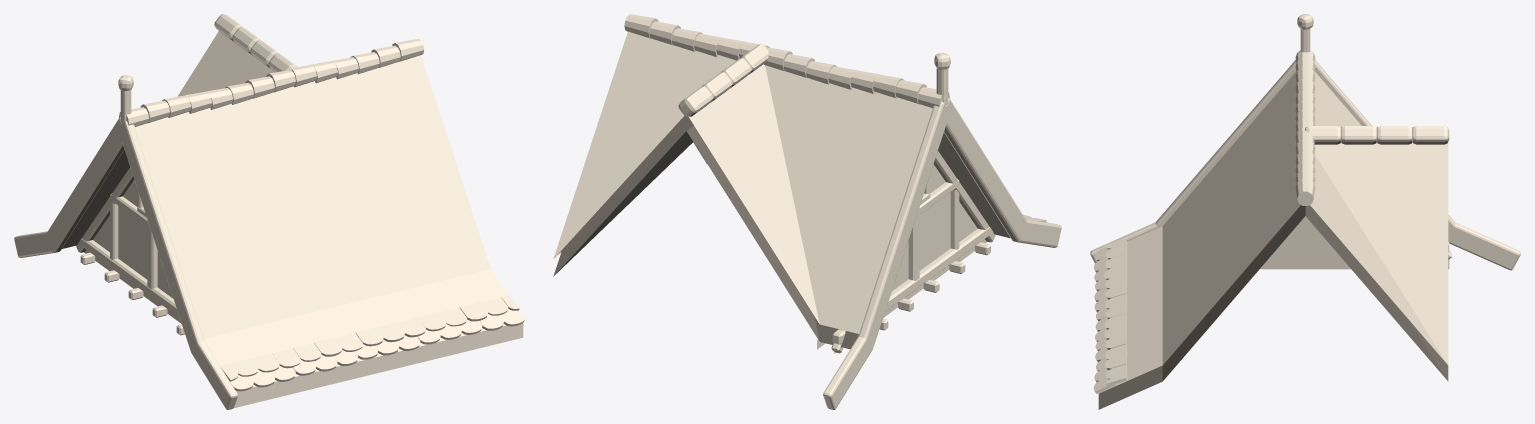
The model's file is SM_VK_Roof_LCorner.fbx.
3 renders of one model, left to right at view 1: azimuth 30°, elevation 25°; view 2: azimuth 150°, elevation 25°; view 3: azimuth 270°, elevation 25°, orthographic. The views are drawn at different scales.
Parts seen in each view (by area): view 1: SM_VK_Roof_LCorner.001; view 2: SM_VK_Roof_LCorner.001; view 3: SM_VK_Roof_LCorner.001.
Part boxes in pixels (<box>): SM_VK_Roof_LCorner.001: <box>14,14,524,409</box>; SM_VK_Roof_LCorner.001: <box>553,14,1061,409</box>; SM_VK_Roof_LCorner.001: <box>1090,14,1520,409</box>.
Size of the model in its own units: 7.23 by 5.89 by 9.04.
